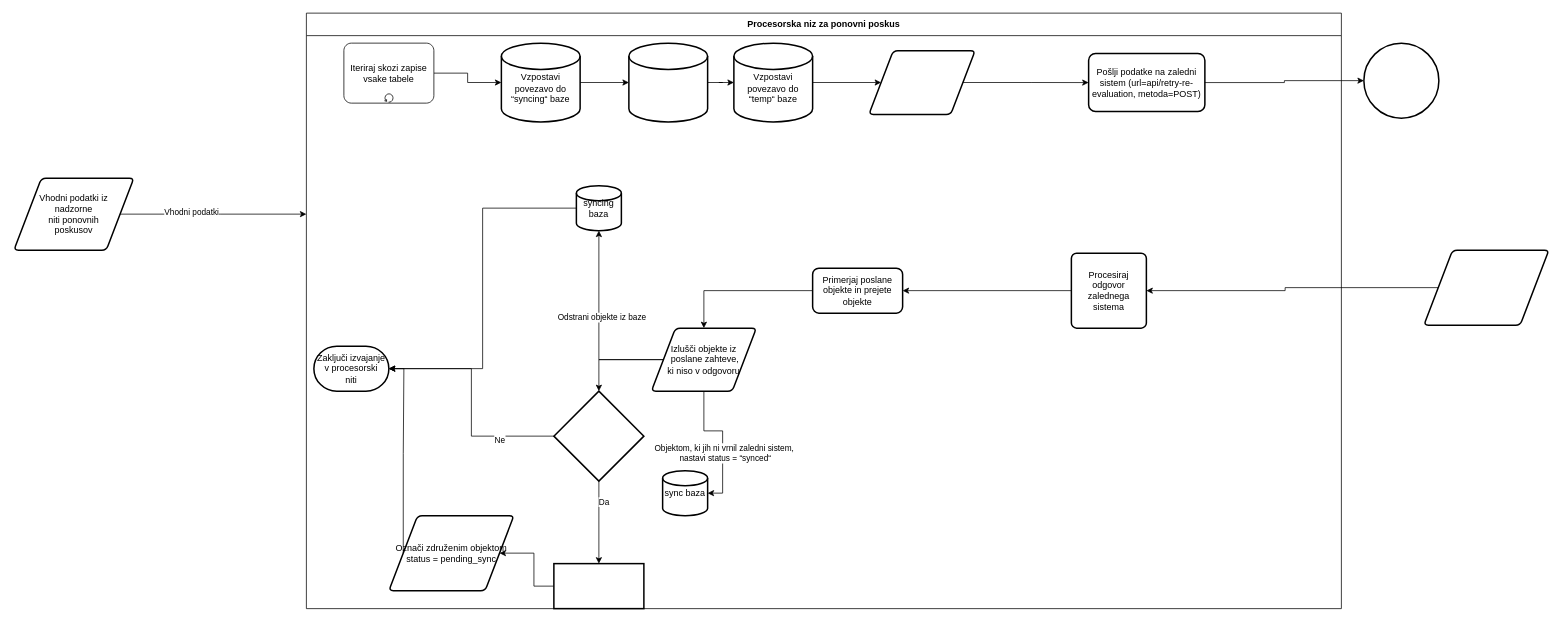
Image size: 1562x623. Some labels were removed from this diagram. Each missing label, with the centre of its shape:
"Ali obstajajo podatki za objekte v temp bazi" goes at (x=598, y=436).
"Klic na zaledni sistem" goes at (x=1401, y=80).
"Odgovor zalednega sistema" goes at (x=1486, y=287).
"Pripravi podatke za zaledni sistem" goes at (x=922, y=82).
"Vzpostavi povezavo do “sync“ baze" goes at (x=668, y=82).
"Združi podatke iz TEMP in SYNC baze" goes at (x=598, y=585).
